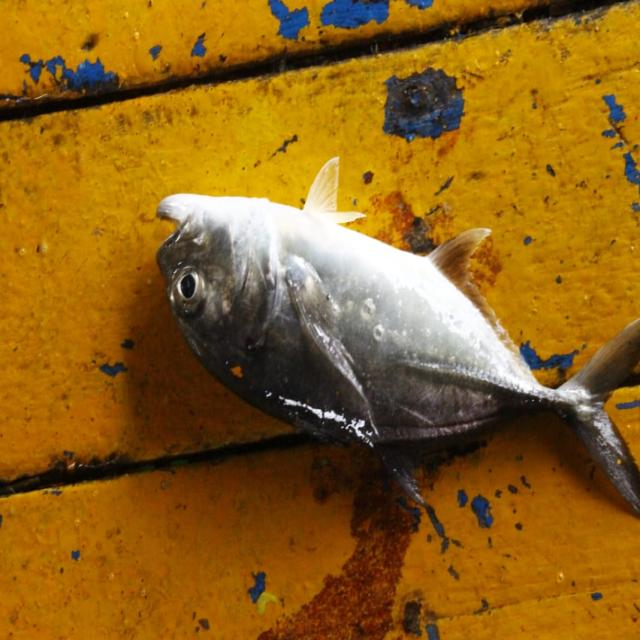ikan: (132, 136, 635, 538)
